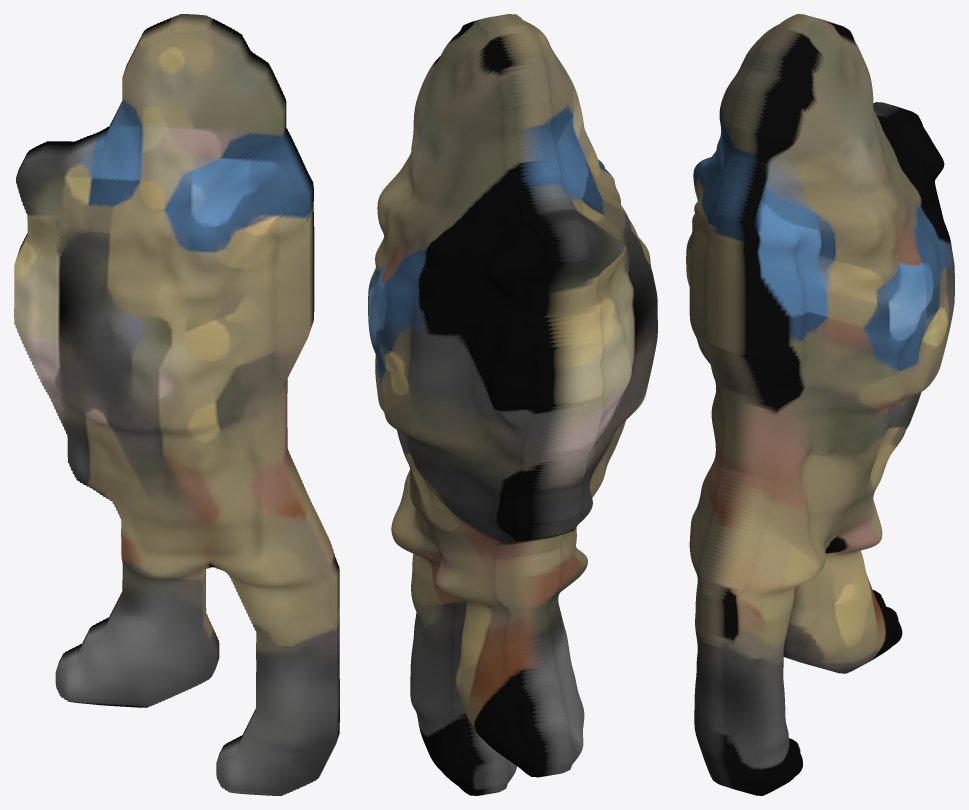
File: navy_seal.glb
3 views of the same model, side by side, from view 1: azimuth 30°, elevation 25°; view 2: azimuth 150°, elevation 25°; view 3: azimuth 270°, elevation 25° (orthographic). The views are drawn at different scales.
Parts seen in each view (by area): view 1: navy_seal; view 2: navy_seal; view 3: navy_seal.
Boxes of the visible parts, x1,y1,x2,y2 form: navy_seal: [14, 14, 339, 795]; navy_seal: [368, 14, 657, 795]; navy_seal: [686, 14, 954, 795].
Bounding box in the file's own units: 0.7814 × 2.23 × 0.7319.
